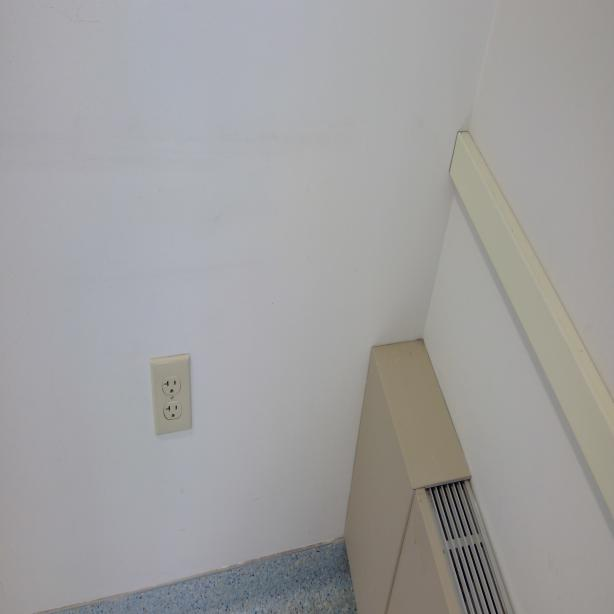typeb: (162, 374, 181, 397), (166, 402, 180, 420)
